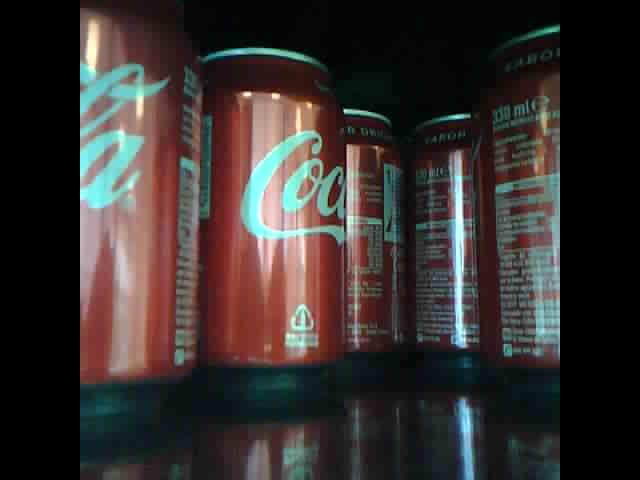coca cola: (77, 7, 202, 419), (200, 39, 345, 369), (480, 26, 558, 381), (404, 111, 481, 363), (337, 102, 400, 372)
